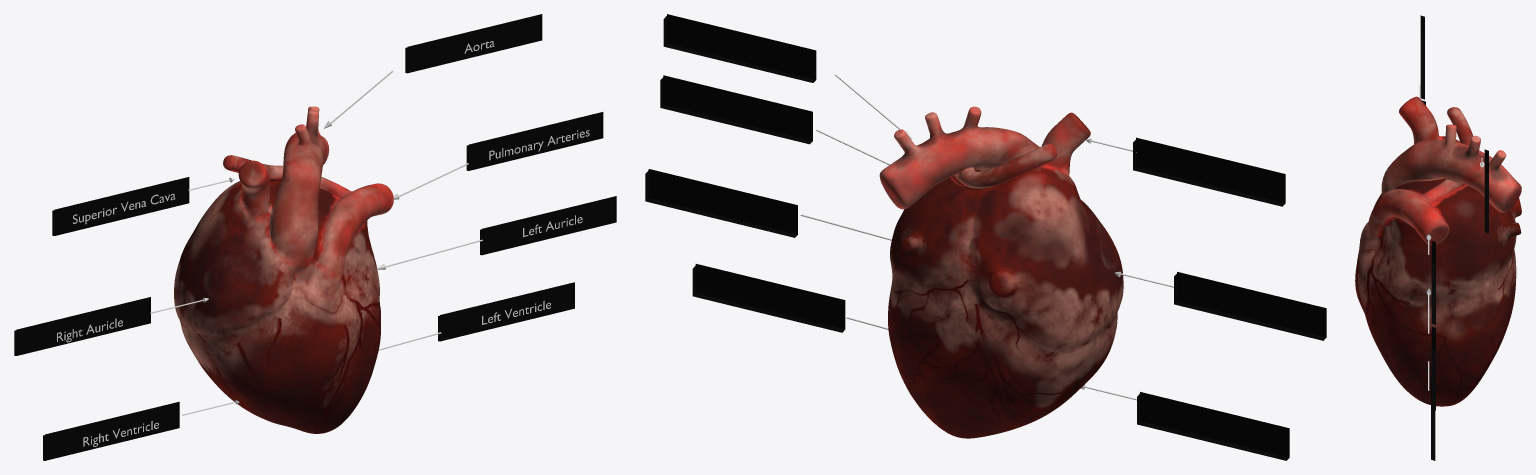
The model's file is heartSmall.glb.
The picture shows the model from 3 angles, left to right: view 1: azimuth 30°, elevation 25°; view 2: azimuth 150°, elevation 25°; view 3: azimuth 270°, elevation 25°; orthographic projection. The views are drawn at different scales.
Parts seen in each view (by area): view 1: hart:ZBrush_defualt_group_Heart Tex_0, Plane.007, Plane.006, Plane.004, Plane.002, Plane.001, Plane.003, Plane.005; view 2: hart:ZBrush_defualt_group_Heart Tex_0, Plane.003, Plane.007, Plane.006, Plane.004, Plane.005, Plane.001, Plane.002; view 3: hart:ZBrush_defualt_group_Heart Tex_0, Plane.002, Plane.007, Plane.004, Plane.001, Plane.003.
Boxes of the visible parts, box(x1,y1,x2,y2) form: hart:ZBrush_defualt_group_Heart Tex_0: box(174, 106, 393, 433); Plane.007: box(405, 14, 542, 73); Plane.006: box(14, 297, 150, 355); Plane.004: box(480, 196, 616, 255); Plane.002: box(52, 177, 189, 235); Plane.001: box(466, 112, 603, 170); Plane.003: box(438, 282, 574, 341); Plane.005: box(43, 401, 179, 460); hart:ZBrush_defualt_group_Heart Tex_0: box(879, 106, 1123, 438); Plane.003: box(692, 264, 845, 332); Plane.007: box(663, 14, 816, 82); Plane.006: box(1174, 272, 1326, 340); Plane.004: box(645, 169, 797, 237); Plane.005: box(1137, 392, 1289, 460); Plane.001: box(660, 75, 812, 144); Plane.002: box(1133, 137, 1285, 206); hart:ZBrush_defualt_group_Heart Tex_0: box(1355, 96, 1521, 406); Plane.002: box(1420, 15, 1424, 99); Plane.007: box(1484, 149, 1488, 233); Plane.004: box(1431, 326, 1435, 410); Plane.001: box(1431, 241, 1435, 324); Plane.003: box(1431, 377, 1435, 460).
Bounding box in the file's own units: 3.37 × 1.79 × 0.8801.
Materials: 3 (1 with a texture image).
